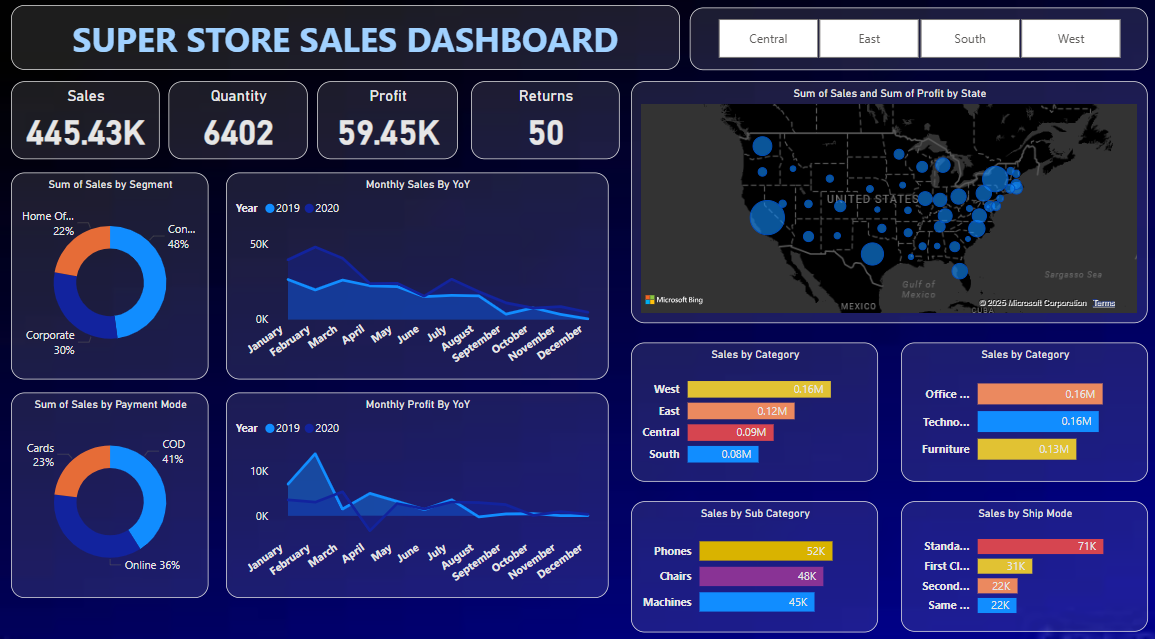

What the dashboard file says about the page in this screenshot:
{"tool":"powerbi","page":{"name":"Page 1","canvas":[1280,720],"ordinal":0},"visuals":[{"type":"clusteredBarChart","title":"Sales by Category","fields":{"Category":["SuperStore_Sales_Dataset.Category"],"Y":["Sum(SuperStore_Sales_Dataset.Sales)"]},"box":[992.9,381.4,271.4,152.9],"z":0},{"type":"clusteredBarChart","title":"Sales by Sub Category","fields":{"Category":["SuperStore_Sales_Dataset.Sub-Category"],"Y":["Sum(SuperStore_Sales_Dataset.Sales)"]},"box":[697.1,555.7,271.4,144.3],"z":1000},{"type":"clusteredBarChart","title":"Sales by Ship Mode","fields":{"Y":["Sum(SuperStore_Sales_Dataset.Sales)"],"Category":["SuperStore_Sales_Dataset.Ship Mode"]},"box":[992.9,555.7,271.4,142.9],"z":2000},{"type":"areaChart","title":"Monthly Sales By YoY","fields":{"Y":["Sum(SuperStore_Sales_Dataset.Sales)"],"Series":["SuperStore_Sales_Dataset.Order Date.Variation.Date Hierarchy.Year"],"Category":["SuperStore_Sales_Dataset.Order Date.Variation.Date Hierarchy.Month","SuperStore_Sales_Dataset.Order Date.Variation.Date Hierarchy.Day"]},"box":[252.9,194.3,420,227.1],"z":3000},{"type":"areaChart","title":"Monthly Profit By YoY","fields":{"Series":["SuperStore_Sales_Dataset.Order Date.Variation.Date Hierarchy.Year"],"Category":["SuperStore_Sales_Dataset.Order Date.Variation.Date Hierarchy.Month","SuperStore_Sales_Dataset.Order Date.Variation.Date Hierarchy.Day"],"Y":["Sum(SuperStore_Sales_Dataset.Profit)"]},"box":[252.9,435.7,420,225.7],"z":4000},{"type":"map","fields":{"Category":["SuperStore_Sales_Dataset.State"],"Size":["Sum(SuperStore_Sales_Dataset.Sales)"]},"box":[697.1,94.3,567.1,265.7],"z":5000},{"type":"donutChart","fields":{"Category":["SuperStore_Sales_Dataset.Segment"],"Y":["Sum(SuperStore_Sales_Dataset.Sales)"]},"box":[17.1,194.3,217.1,227.1],"z":6000},{"type":"donutChart","fields":{"Y":["Sum(SuperStore_Sales_Dataset.Sales)"],"Category":["SuperStore_Sales_Dataset.Payment Mode"]},"box":[17.1,435.7,217.1,225.7],"z":7000},{"type":"slicer","fields":{"Values":["SuperStore_Sales_Dataset.Region"]},"box":[761.4,14.3,502.9,68.6],"z":8000},{"type":"textbox","box":[17.1,11.4,734.3,71.4],"z":9000},{"type":"card","title":"Sales","fields":{"Values":["Sum(SuperStore_Sales_Dataset.Sales)"]},"box":[17.1,94.3,162.9,85.7],"z":9001},{"type":"card","title":"Quantity","fields":{"Values":["Sum(SuperStore_Sales_Dataset.Quantity)"]},"box":[190,94.3,152.9,85.7],"z":9002},{"type":"card","title":"Profit","fields":{"Values":["Sum(SuperStore_Sales_Dataset.Profit)"]},"box":[352.9,94.3,154.3,85.7],"z":9003},{"type":"clusteredBarChart","title":"Sales by Category","fields":{"Y":["Sum(SuperStore_Sales_Dataset.Sales)"],"Category":["SuperStore_Sales_Dataset.Region"]},"box":[697.1,381.4,271.4,152.9],"z":9004},{"type":"card","title":"Returns","fields":{"Values":["Sum(SuperStore_Sales_Dataset.Returns)"]},"box":[521.4,94.3,162.9,85.7],"z":9005}]}

Visuals, with their boxes in screenshot pixels (x1, y1, x2, y2), scaled from the page's 1280x720 canvas onto the 1155x639 screenshot:
"Sales by Category" clusteredBarChart: [896,338,1141,474]
"Sales by Sub Category" clusteredBarChart: [629,493,874,621]
"Sales by Ship Mode" clusteredBarChart: [896,493,1141,620]
"Monthly Sales By YoY" areaChart: [228,172,607,374]
"Monthly Profit By YoY" areaChart: [228,387,607,587]
map - SuperStore_Sales_Dataset.State x Sum(SuperStore_Sales_Dataset.Sales): [629,84,1141,320]
donutChart - SuperStore_Sales_Dataset.Segment x Sum(SuperStore_Sales_Dataset.Sales): [15,172,211,374]
donutChart - Sum(SuperStore_Sales_Dataset.Sales) x SuperStore_Sales_Dataset.Payment Mode: [15,387,211,587]
slicer - SuperStore_Sales_Dataset.Region: [687,13,1141,74]
textbox: [15,10,678,73]
"Sales" card: [15,84,162,160]
"Quantity" card: [171,84,309,160]
"Profit" card: [318,84,458,160]
"Sales by Category" clusteredBarChart: [629,338,874,474]
"Returns" card: [470,84,617,160]
